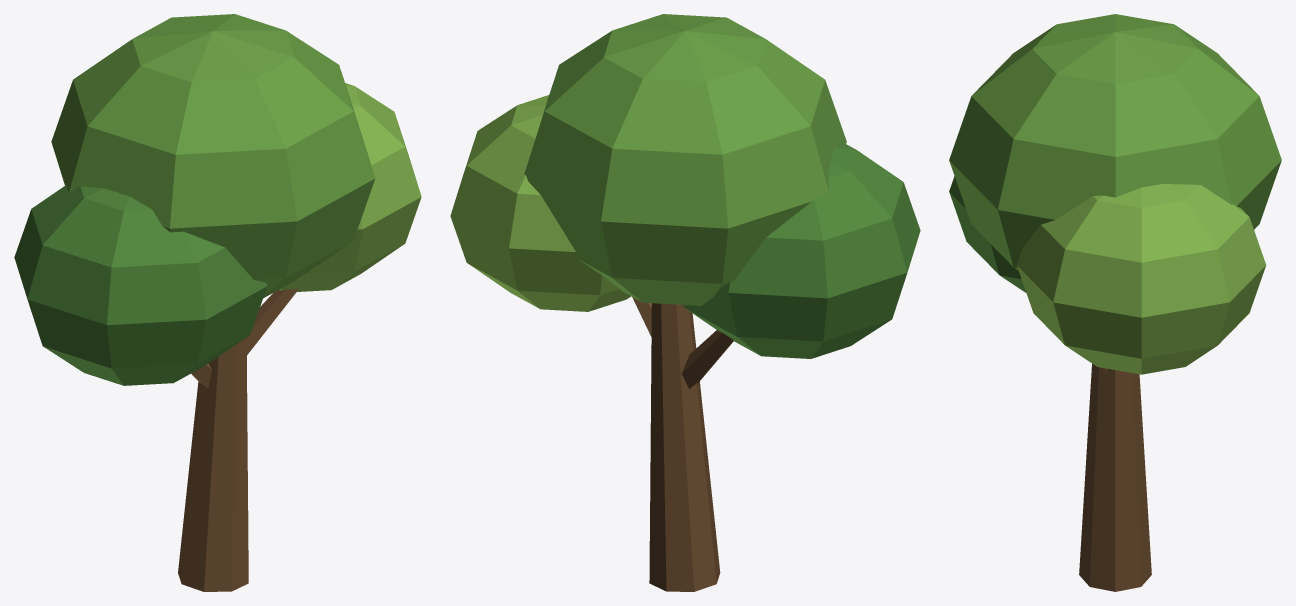
Rendered from tree_oak_lod0.obj.
3 renders of one model, left to right at view 1: azimuth 30°, elevation 25°; view 2: azimuth 150°, elevation 25°; view 3: azimuth 270°, elevation 25°, orthographic.
Visible parts, largest first — view 1: tree_oak_lod0; view 2: tree_oak_lod0; view 3: tree_oak_lod0.
Part boxes in pixels (x1,y1,x2,y2): tree_oak_lod0: (14,14,421,591); tree_oak_lod0: (450,14,920,591); tree_oak_lod0: (949,14,1281,591).
Bounding box in the file's own units: 4.55 × 5.78 × 3.2.
1 material, 1 textured.
